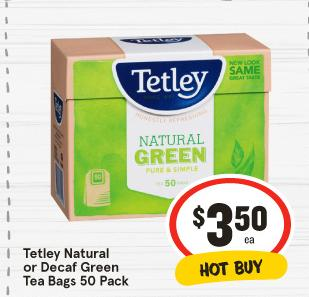description_block: (19, 243, 141, 294)
price_main: (171, 180, 285, 251)
product_image_block: (39, 26, 282, 194)
promo_text_block: (168, 249, 292, 285)
